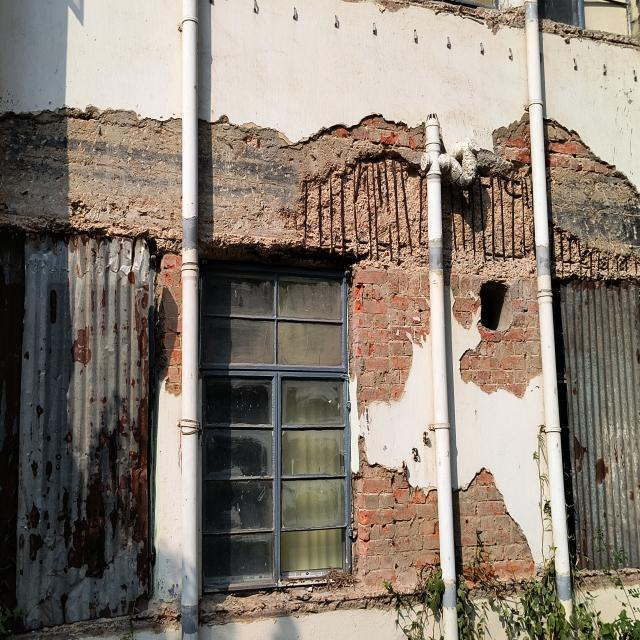Scaling: (0, 106, 182, 251), (198, 116, 375, 252)
Spalling: (235, 126, 427, 265), (445, 151, 532, 269), (199, 572, 392, 625), (20, 603, 181, 640), (374, 0, 525, 32), (555, 230, 640, 279), (540, 19, 640, 52)
exposed brickwork: (353, 442, 439, 592), (450, 274, 541, 397), (350, 270, 429, 406), (454, 470, 535, 579), (326, 117, 415, 149), (545, 121, 590, 168), (493, 112, 531, 165), (575, 163, 605, 172)
